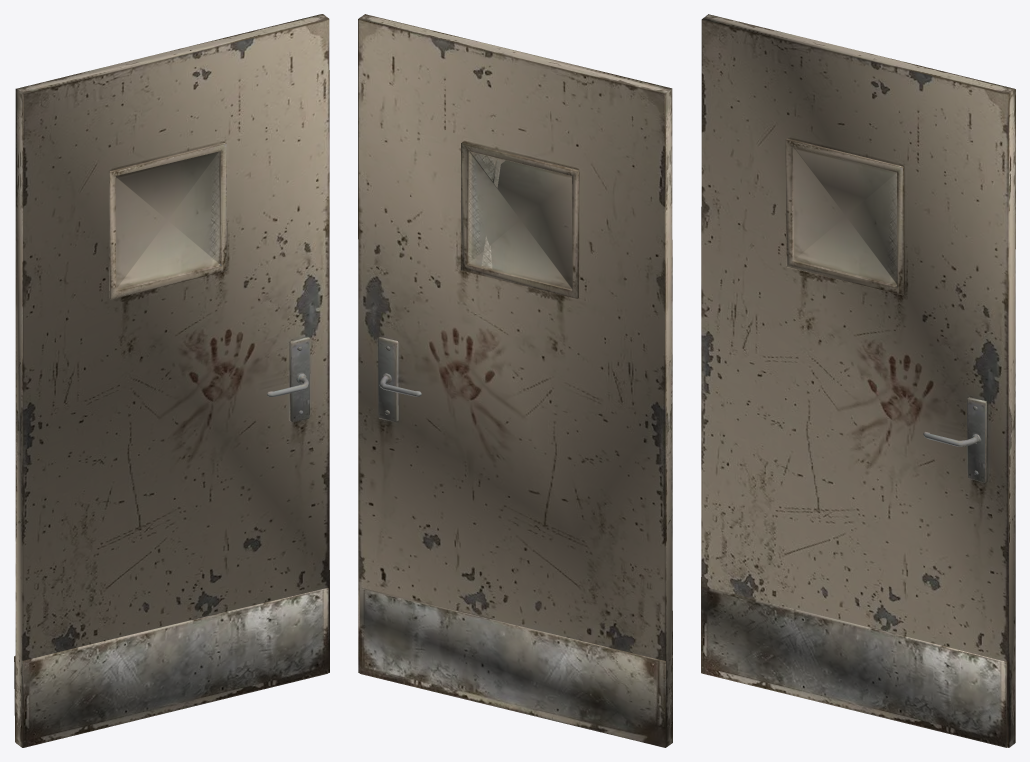
Rendered from door_a.glb.
3 renders of one model, left to right at view 1: azimuth 30°, elevation 25°; view 2: azimuth 150°, elevation 25°; view 3: azimuth 330°, elevation 25°, orthographic.
Bounding box in the file's own units: 0.4937 × 1 × 0.0928.
Materials: 1 (1 with a texture image).
